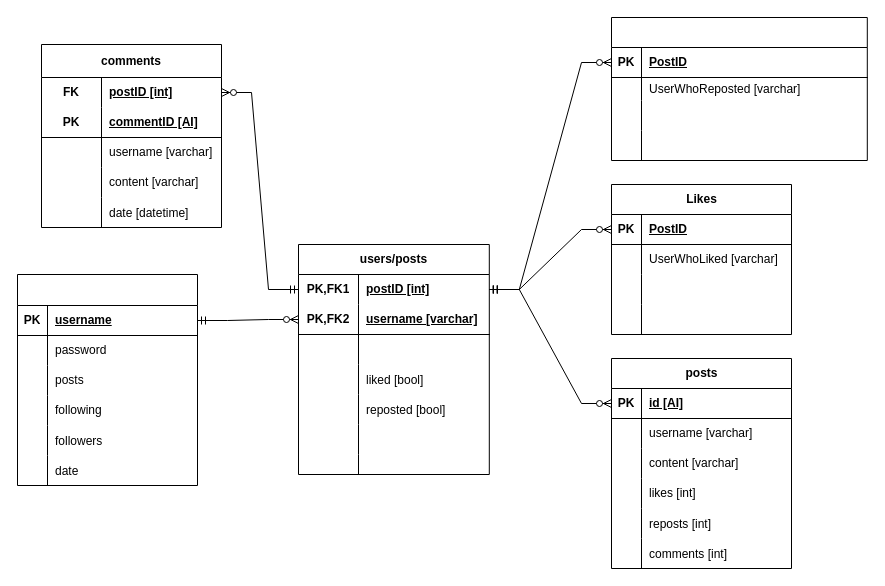
Some shapes in this 885 by 586 pixel diagram are drawn without their labels. Here are the shapes that lost their labels. From the top down, the box of each, then its label:
(610, 16, 867, 160): Reposts
(16, 274, 198, 486): users
